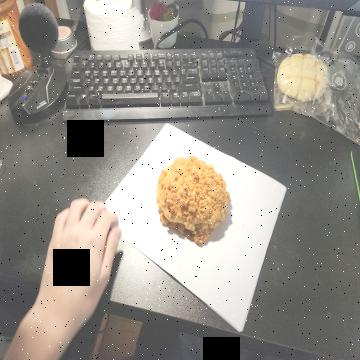soboru_bread: (152, 154, 228, 247)
